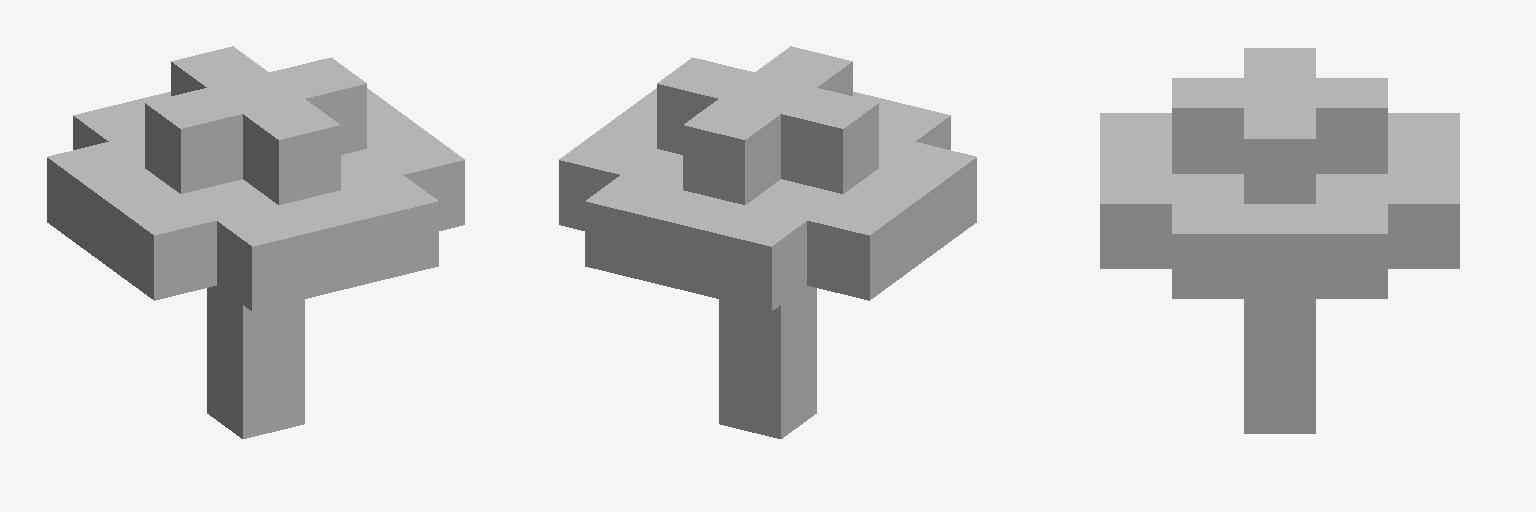
Rendered from tree -1.obj.
The picture shows the model from 3 angles: view 1: azimuth 30°, elevation 25°; view 2: azimuth 150°, elevation 25°; view 3: azimuth 270°, elevation 25°; orthographic projection.
Parts seen in each view (by area): view 1: object 1; view 2: object 1; view 3: object 1.
Boxes of the visible parts, <box> form: object 1: <box>47,46,464,438</box>; object 1: <box>559,46,976,438</box>; object 1: <box>1100,48,1459,433</box>.
Size of the model in its own units: 0.5 by 0.5 by 0.5.